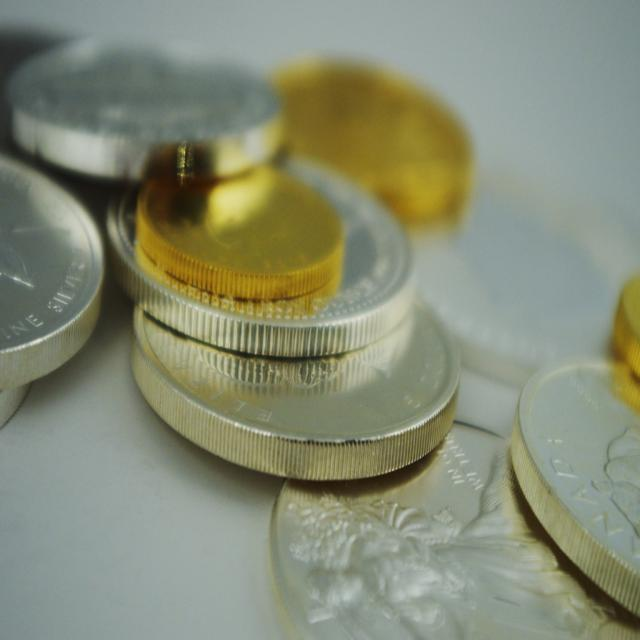Coin: (0, 25, 640, 639)
